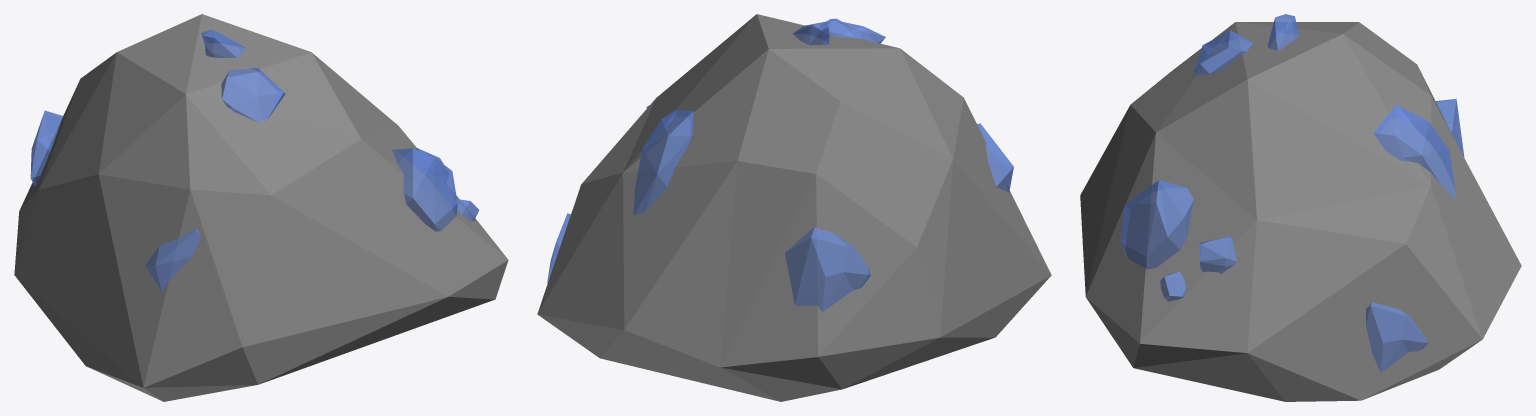
File: rock-item.fbx
3 views of the same model, side by side, from view 1: azimuth 30°, elevation 25°; view 2: azimuth 150°, elevation 25°; view 3: azimuth 270°, elevation 25° (orthographic). The views are drawn at different scales.
Parts seen in each view (by area): view 1: Cube, Cube.004, Cube.005, Cube.003, Cube.002, Cube.009; view 2: Cube, Cube.002, Cube.007, Cube.003, Cube.005, Cube.009; view 3: Cube, Cube.004, Cube.007, Cube.001, Cube.005, Cube.006, Cube.009, Cube.002, Cube.008.
Boxes of the visible parts, left/top/right/bottom form: Cube: left=14, top=14, right=508, bottom=401; Cube.004: left=392, top=148, right=457, bottom=231; Cube.005: left=221, top=68, right=285, bottom=122; Cube.003: left=145, top=228, right=201, bottom=291; Cube.002: left=30, top=110, right=62, bottom=186; Cube.009: left=201, top=29, right=245, bottom=57; Cube: left=537, top=14, right=1051, bottom=401; Cube.002: left=785, top=227, right=870, bottom=311; Cube.007: left=633, top=110, right=693, bottom=215; Cube.003: left=977, top=123, right=1013, bottom=192; Cube.005: left=826, top=18, right=885, bottom=43; Cube.009: left=792, top=21, right=829, bottom=45; Cube: left=1080, top=22, right=1521, bottom=401; Cube.004: left=1120, top=180, right=1193, bottom=269; Cube.007: left=1373, top=104, right=1456, bottom=199; Cube.001: left=1366, top=302, right=1427, bottom=372; Cube.005: left=1193, top=30, right=1252, bottom=75; Cube.006: left=1199, top=236, right=1236, bottom=273; Cube.009: left=1267, top=14, right=1298, bottom=50; Cube.002: left=1436, top=98, right=1464, bottom=157; Cube.008: left=1160, top=271, right=1185, bottom=301.
Size of the model in its own units: 279 by 220 by 275.
